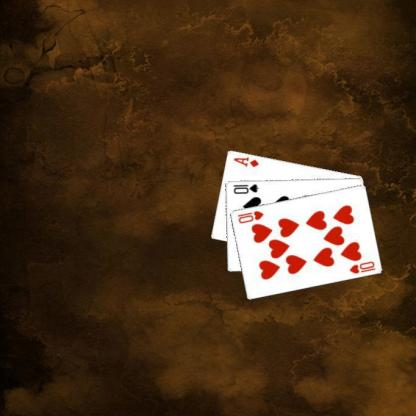10H: (236, 208, 266, 224), (348, 259, 378, 275)
10S: (232, 181, 262, 195)
AD: (233, 154, 262, 168)
